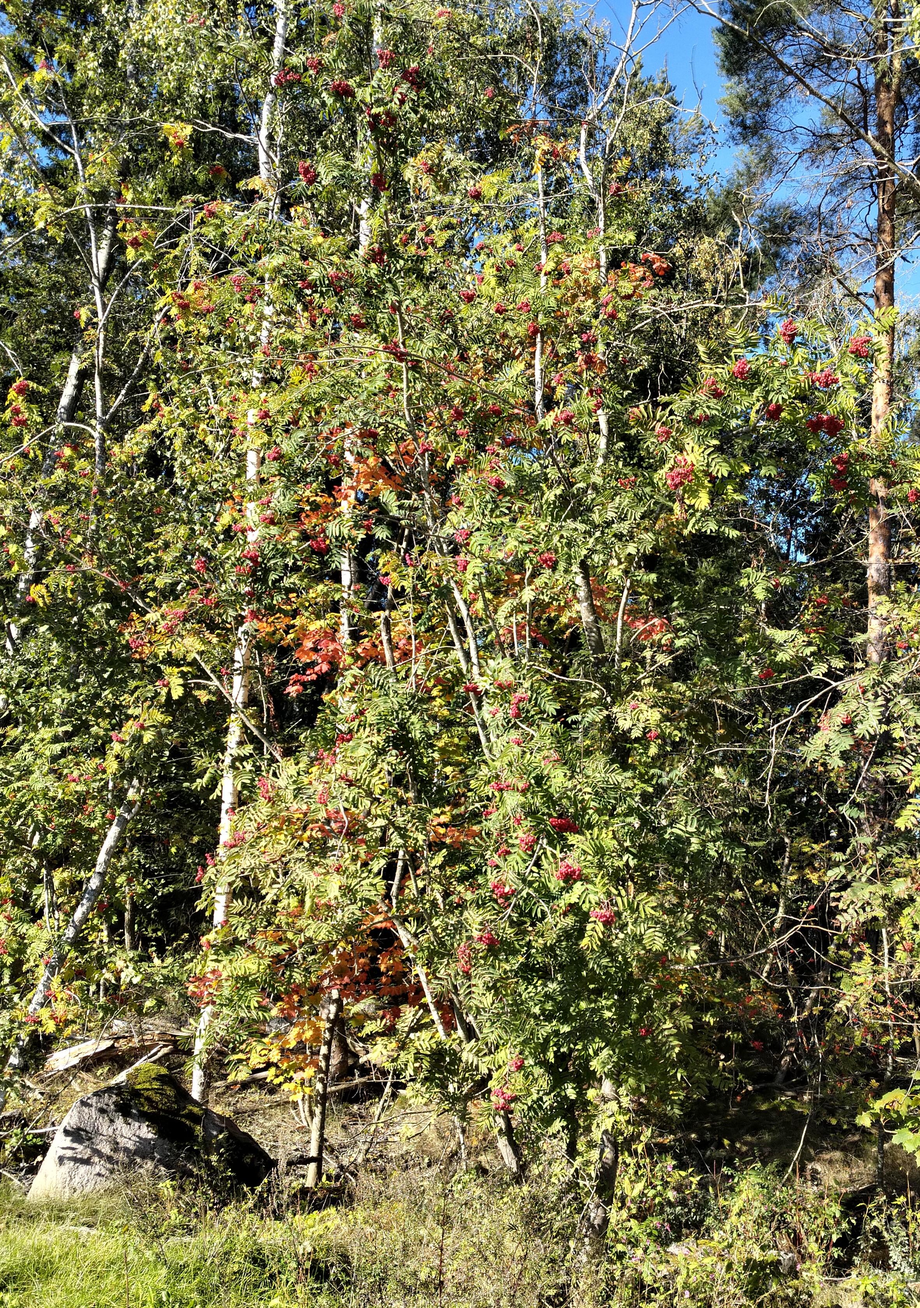Rowan: (239, 79, 852, 1243)
